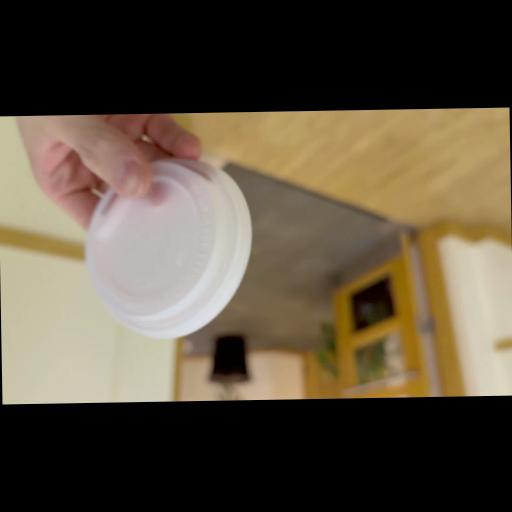lp_cup_lids: (81, 154, 255, 342)
